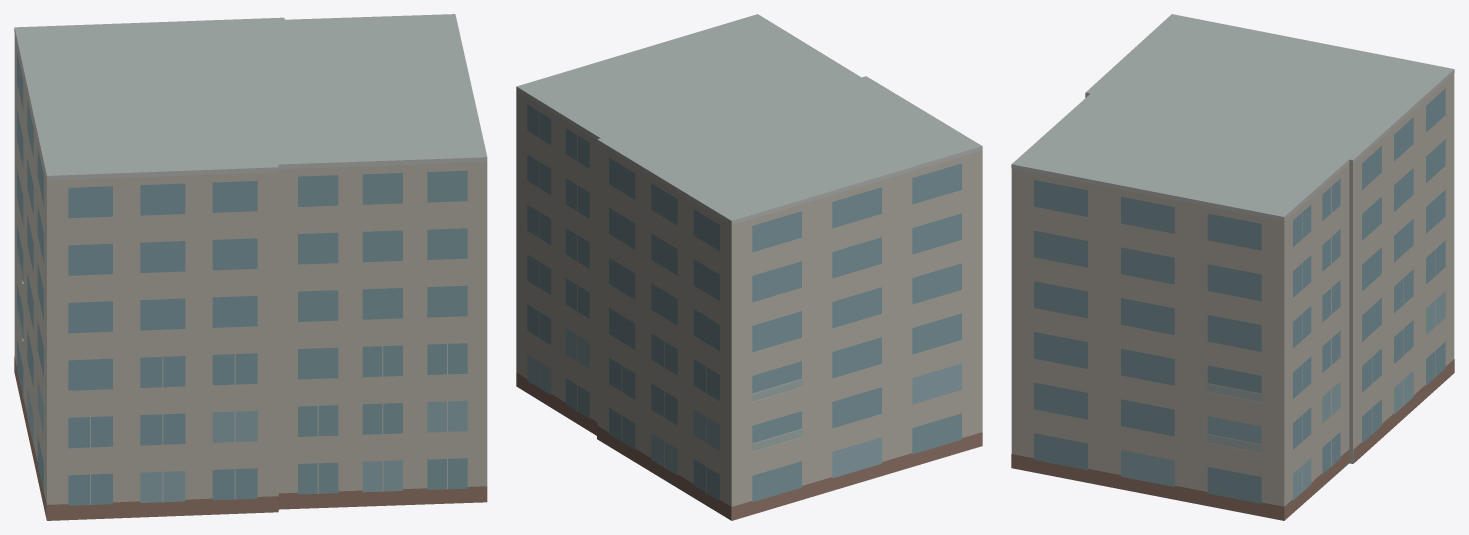
File: survey-upis-32570042.glb
3 renders of one model, left to right at view 1: azimuth 30°, elevation 25°; view 2: azimuth 150°, elevation 25°; view 3: azimuth 270°, elevation 25°, orthographic. The views are drawn at different scales.
Visible parts, largest first — view 1: survey-upis-32570042.tmp; view 2: survey-upis-32570042.tmp; view 3: survey-upis-32570042.tmp.
Boxes of the visible parts, bbox=[...] form: survey-upis-32570042.tmp: bbox=[14, 14, 487, 520]; survey-upis-32570042.tmp: bbox=[516, 14, 982, 520]; survey-upis-32570042.tmp: bbox=[1011, 14, 1454, 520].
Size of the model in its own units: 25.3 by 17.65 by 23.33.
